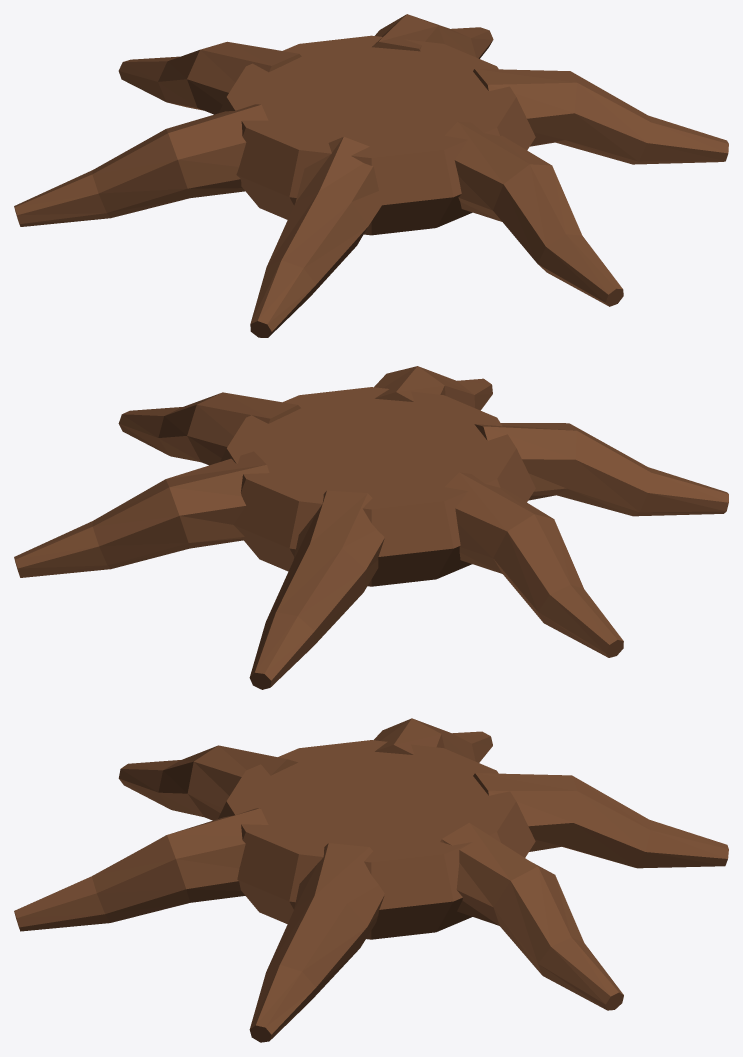
The model's file is MangroveRoot.glb.
3 views of the same model, one above another, from view 1: azimuth 30°, elevation 25°; view 2: azimuth 150°, elevation 25°; view 3: azimuth 270°, elevation 25° (orthographic).
Visible parts, largest first — view 1: MangroveRoot_MangroveRootRoot; view 2: MangroveRoot_MangroveRootRoot; view 3: MangroveRoot_MangroveRootRoot.
Boxes of the visible parts, x1=… form: MangroveRoot_MangroveRootRoot: x1=14, y1=14, x2=728, y2=337; MangroveRoot_MangroveRootRoot: x1=14, y1=366, x2=728, y2=689; MangroveRoot_MangroveRootRoot: x1=14, y1=718, x2=728, y2=1042.
Size of the model in its own units: 3.62 by 0.6 by 3.7.
